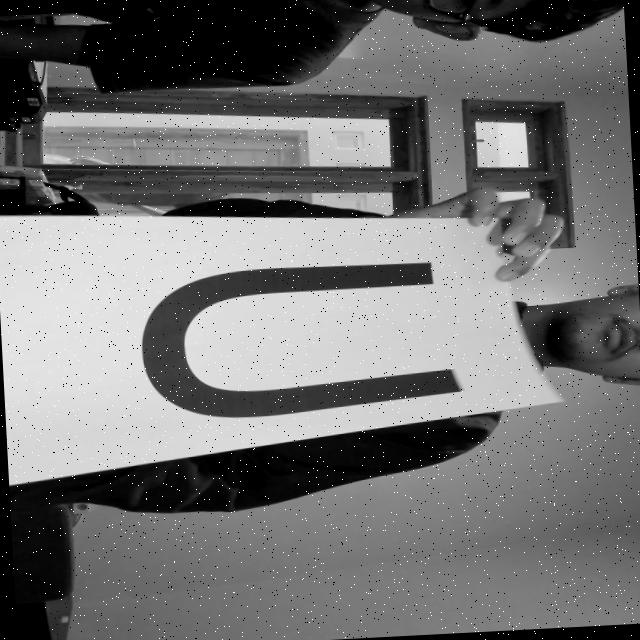u: (118, 243, 472, 450)
